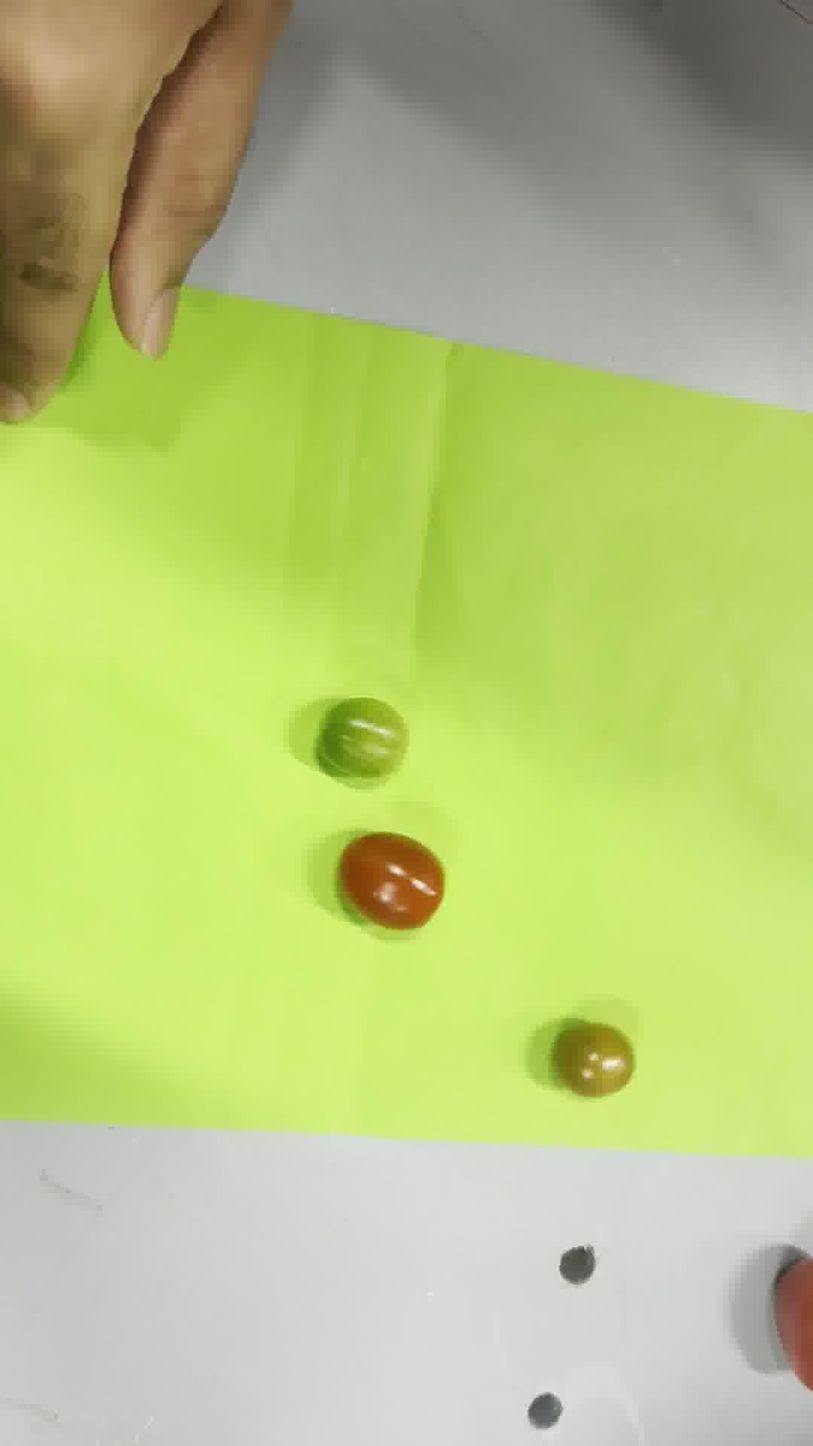green_cherry_tomato: (320, 697, 407, 779)
red_cherry_tomato: (339, 833, 444, 929)
yellow_cherry_tomato: (553, 1021, 635, 1097)
